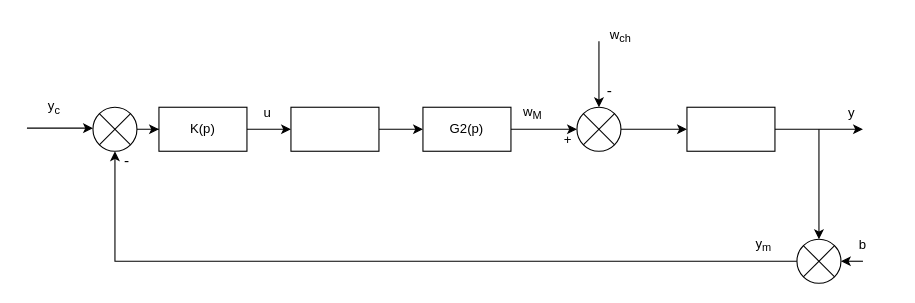
The diagram is 915 pixels wide and 303 high, and some of its shapes have lost their labels. Here are the shapes that lost their labels. From the top down, the centre of each, then its label:
At point 334,128: "G1(p)".
At point 730,128: "G3(p)".
